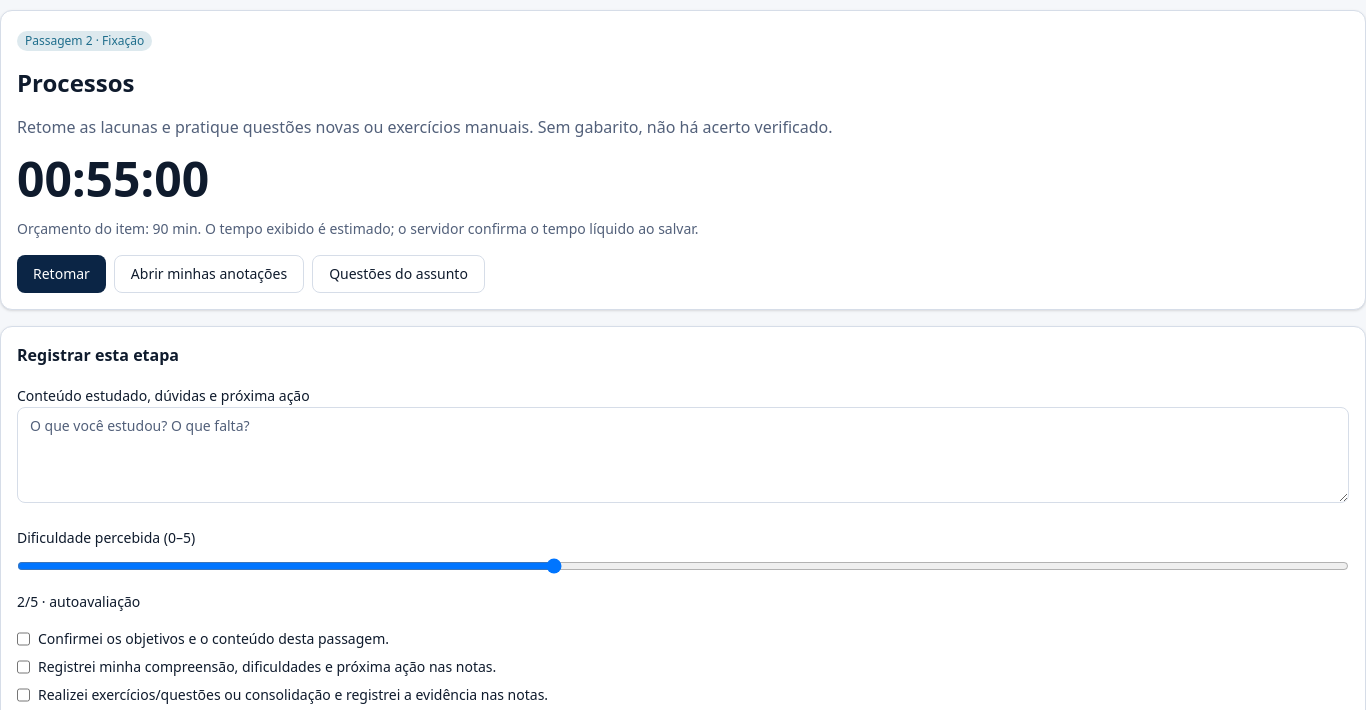
Test case: sessão guiada: persistência confirmada e conclusão explícita › segunda passagem exige também prática explícita para concluir
Type "Exercícios autorais de escalonamento resolvidos e conferidos." into the text box labelled "Conteúdo estudado, dúvidas e próxima ação" at (683, 455), box [17,407,1349,503]
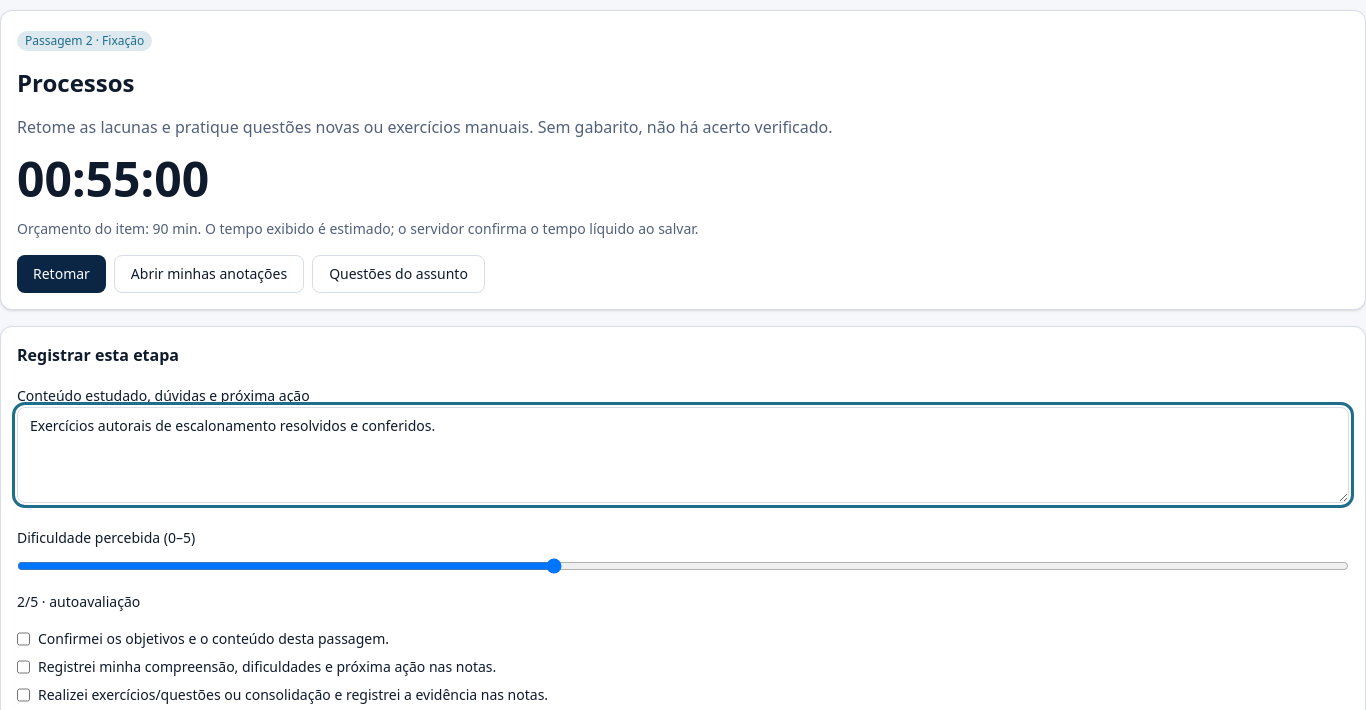
Click the checkbox labelled "Confirmei os objetivos e o conteúdo desta passagem." at (24, 639), box [17,629,30,649]
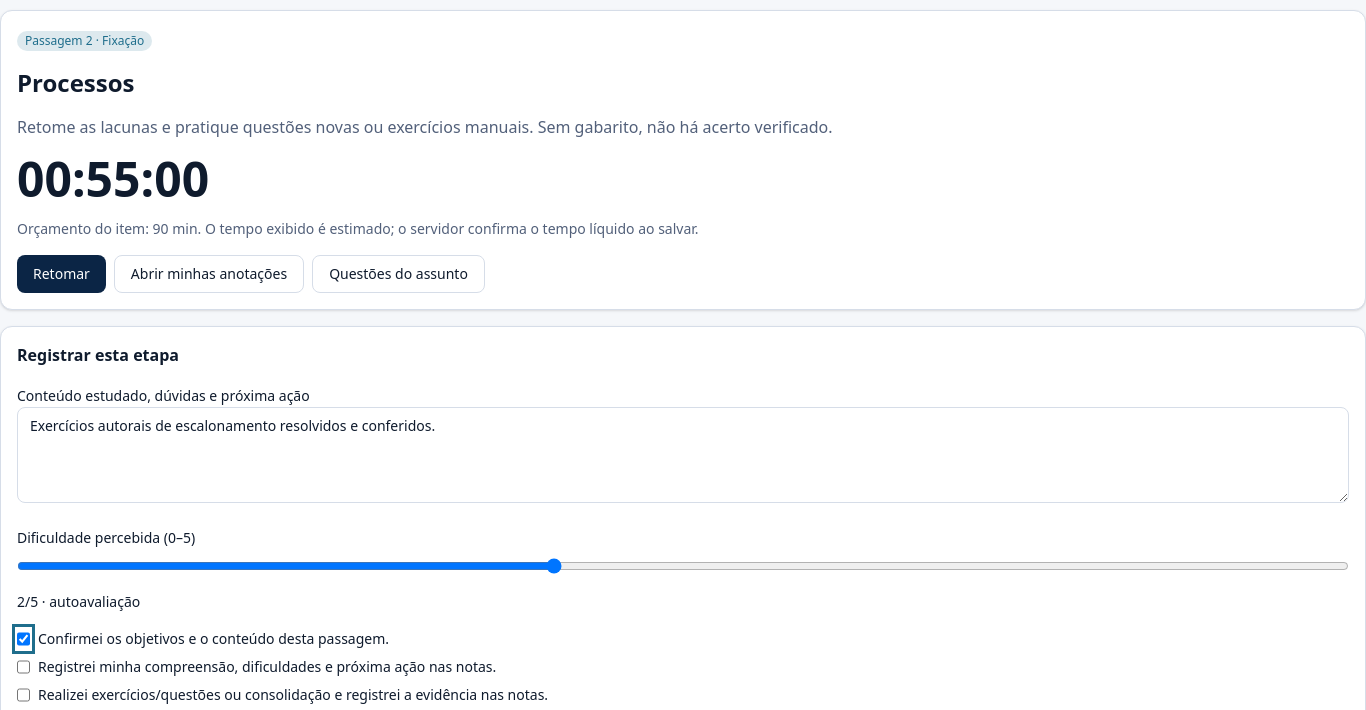
Click the checkbox labelled "Registrei minha compreensão, dificuldades e próxima ação nas notas." at (24, 667), box [17,657,30,677]
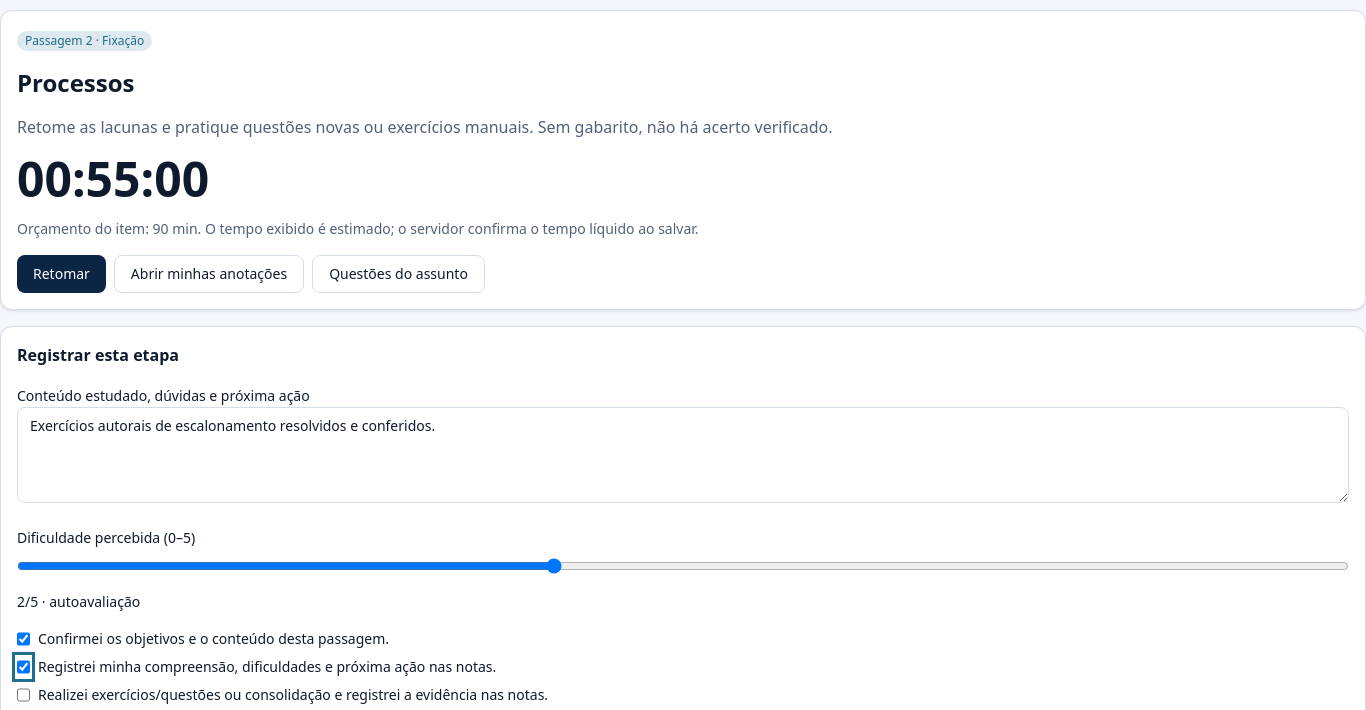
Click the checkbox labelled "Realizei exercícios/questões ou consolidação e registrei a evidência nas notas." at (24, 695), box [17,685,30,705]
(page scrolled)
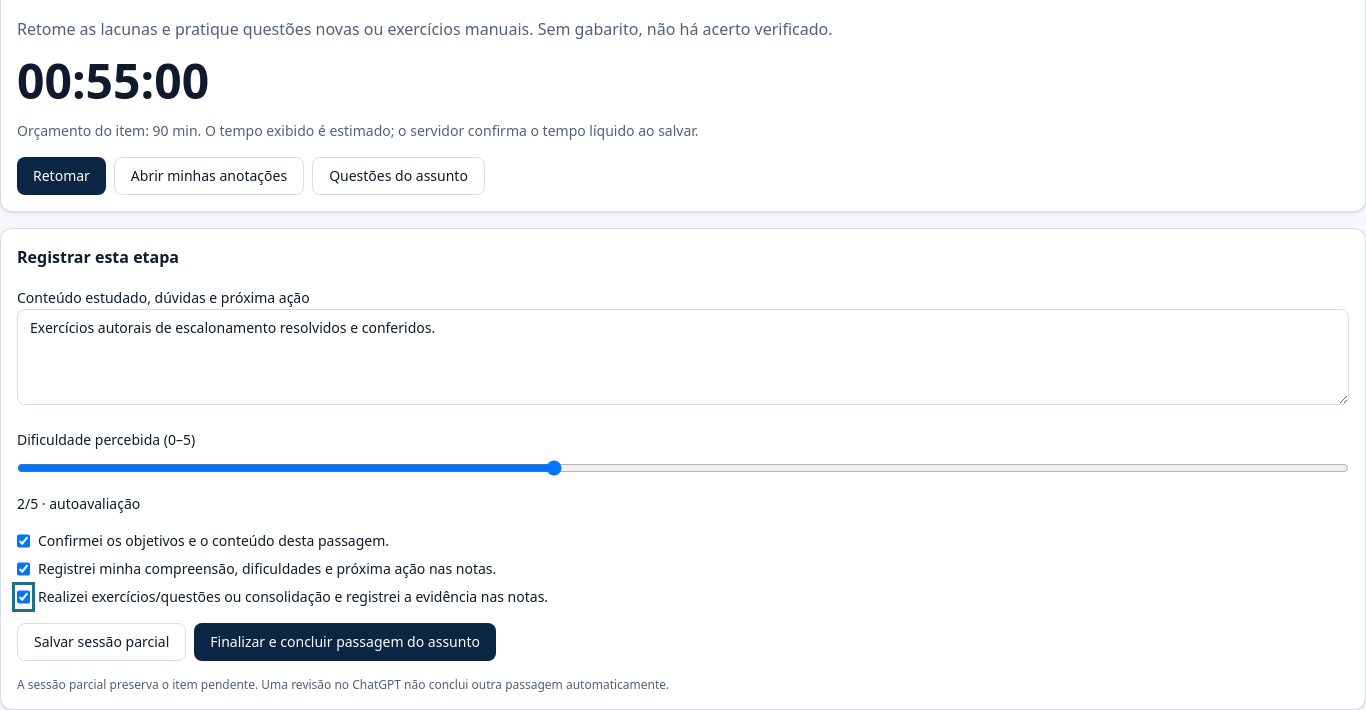
Check: the button "Finalizar e concluir passagem do assunto" is enabled, box [194,623,496,661]
